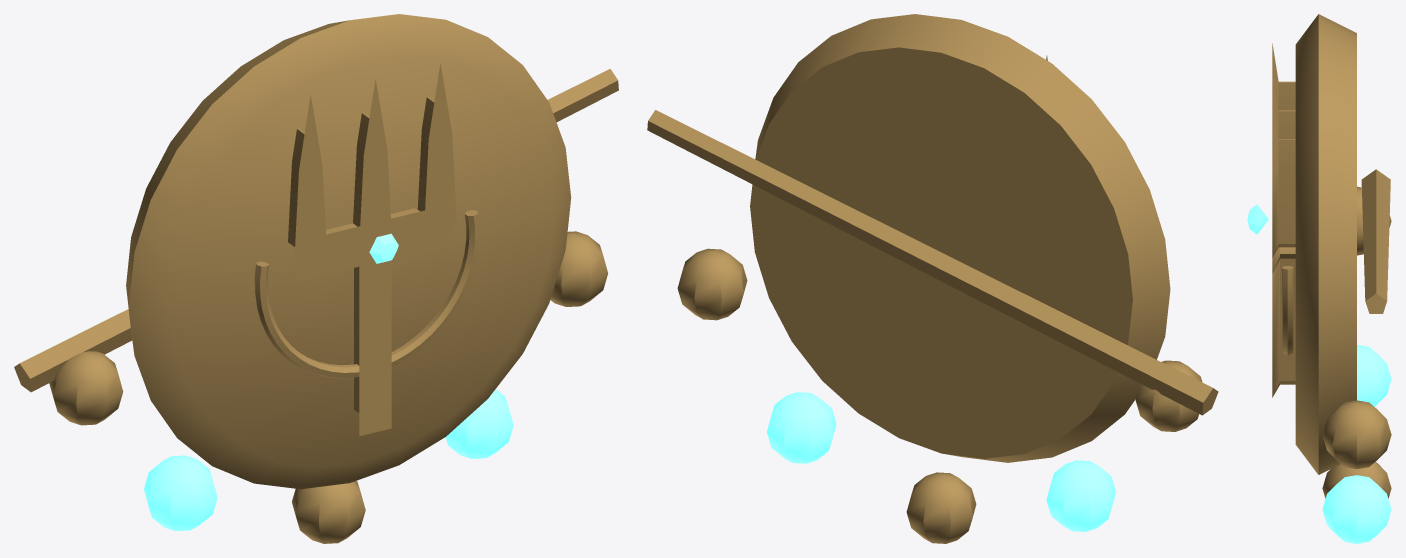
File: boss_sunken_crown_accessory_4.glb
3 views of the same model, side by side, from view 1: azimuth 30°, elevation 25°; view 2: azimuth 150°, elevation 25°; view 3: azimuth 270°, elevation 25° (orthographic). The views are drawn at different scales.
Visible parts, largest first — view 1: boss_sunken_crown_accessory_4; view 2: boss_sunken_crown_accessory_4; view 3: boss_sunken_crown_accessory_4.
Part boxes in pixels (<box>): boss_sunken_crown_accessory_4: <box>14,14,618,543</box>; boss_sunken_crown_accessory_4: <box>647,14,1218,543</box>; boss_sunken_crown_accessory_4: <box>1247,14,1391,543</box>.
Bounding box in the file's own units: 0.1616 × 0.139 × 0.0375.
